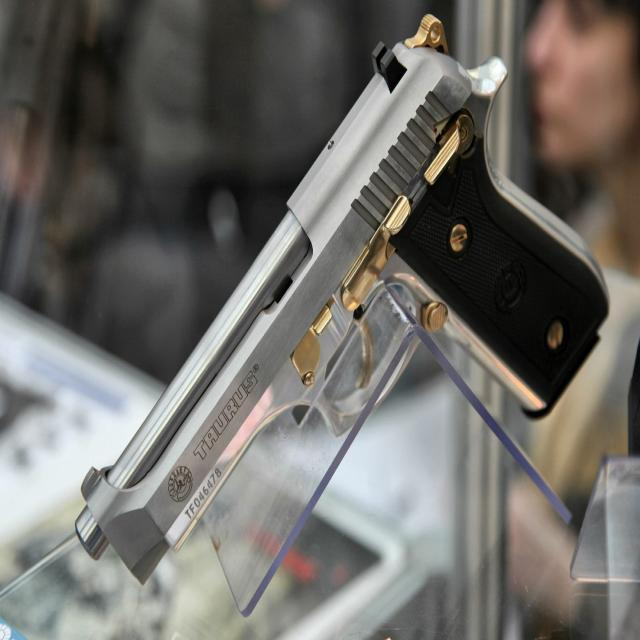pistol: (75, 15, 608, 586)
